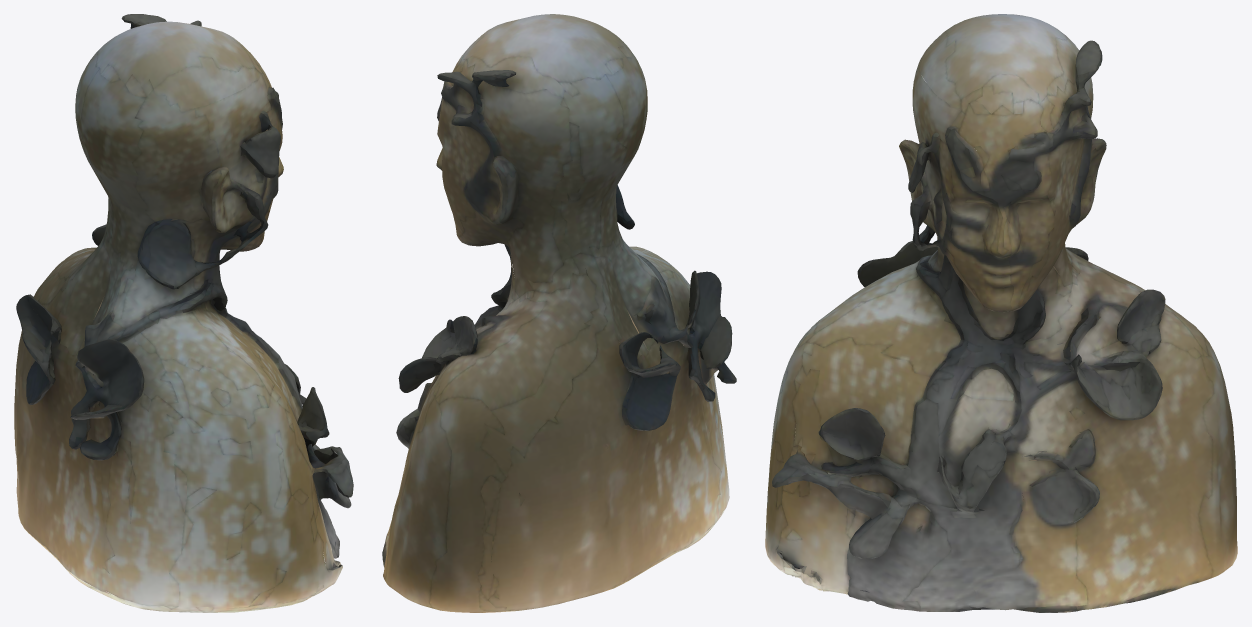
The model's file is Statue 3.glb.
The picture shows the model from 3 angles, left to right: view 1: azimuth 30°, elevation 25°; view 2: azimuth 150°, elevation 25°; view 3: azimuth 270°, elevation 25°; orthographic projection. The views are drawn at different scales.
Visible parts, largest first — view 1: Statue 3.001; view 2: Statue 3.001; view 3: Statue 3.001.
Part boxes in pixels (x1=…): Statue 3.001: x1=14, y1=14, x2=353, y2=612; Statue 3.001: x1=382, y1=14, x2=736, y2=612; Statue 3.001: x1=765, y1=14, x2=1237, y2=612.
Bounding box in the file's own units: 0.3393 × 0.6294 × 0.5089.
1 material, 1 textured.
